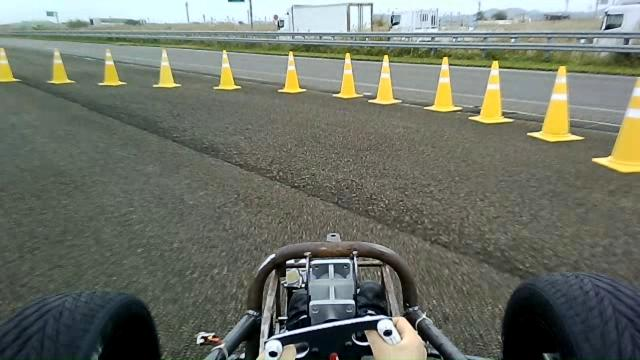yellow cone: (527, 64, 585, 143), (592, 76, 639, 173), (468, 59, 514, 124), (423, 56, 462, 112), (368, 54, 402, 105), (332, 52, 364, 99), (277, 50, 307, 94), (152, 48, 181, 88), (213, 49, 241, 90)
